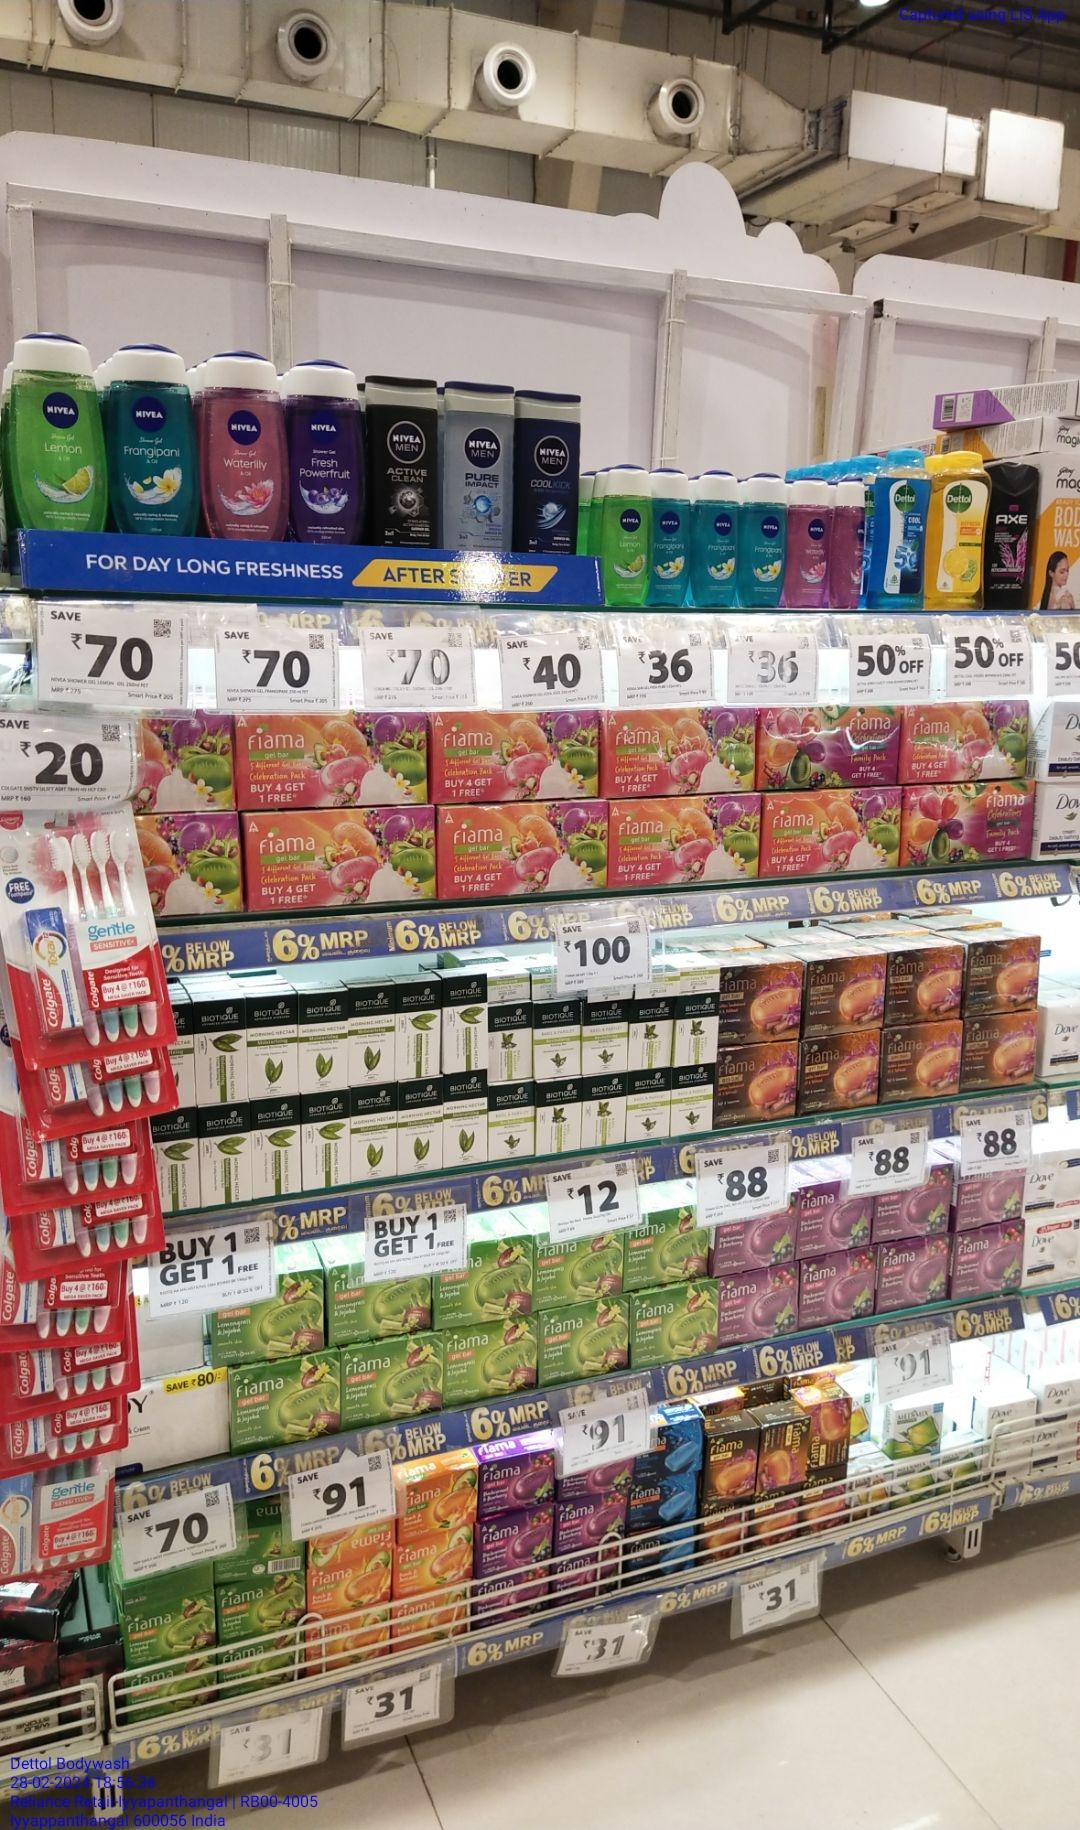Dettol_Bodywash_Cool: (879, 447, 927, 609)
Dettol_Bodywash_Refresh: (935, 449, 987, 613)
Nivea_Shower_Gel_Frangipani_and_Oil_250ML: (109, 337, 198, 541), (696, 470, 741, 609), (744, 472, 788, 608), (653, 464, 692, 610)
Nivea_Shower_Gel_Fresh_Powerfruit_250ML: (293, 360, 373, 542)
Nivea_Shower_Gel_Lemon_and_Oil_250ML: (17, 326, 102, 532), (603, 457, 647, 608)
Nivea_Shower_Gel_Waterlily_and_Oil_250ML: (203, 348, 292, 542), (792, 477, 831, 609)
